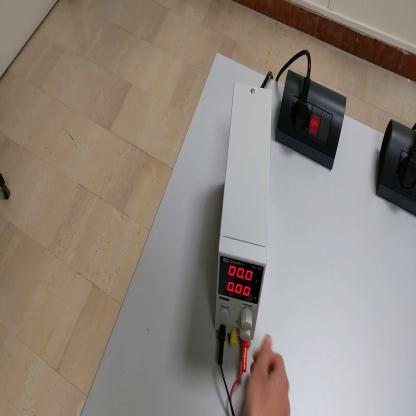hand: (241, 334, 291, 416)
power supply: (212, 76, 275, 346)
socket: (276, 72, 349, 173), (378, 118, 416, 218)
